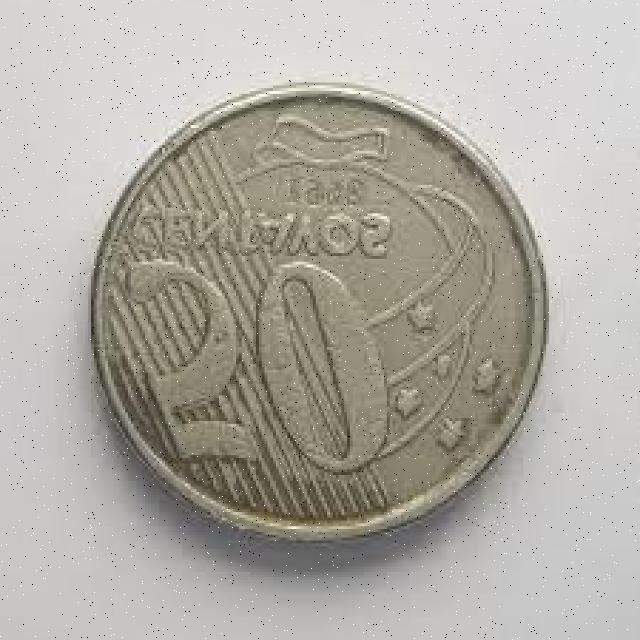50 cent: (94, 79, 546, 543)
